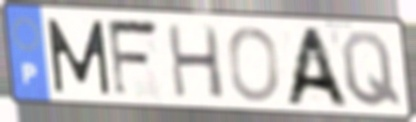A: (280, 26, 353, 110)
F: (104, 17, 163, 102)
H: (164, 22, 228, 101)
M: (44, 16, 114, 97)
O: (226, 25, 282, 104)
Q: (338, 29, 404, 110)
